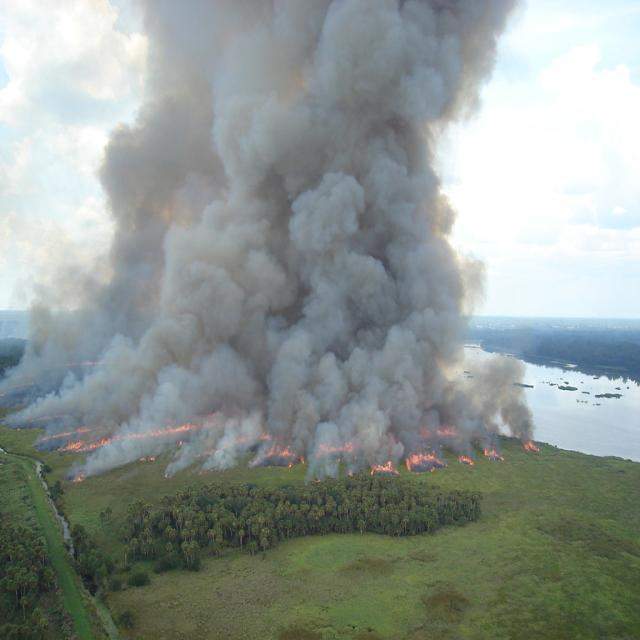Fire: (32, 420, 200, 465), (260, 432, 306, 470), (406, 452, 450, 474), (316, 438, 354, 458), (368, 459, 401, 477), (482, 445, 506, 463), (523, 438, 543, 454), (436, 423, 457, 438)
Smoke: (1, 1, 532, 480)
